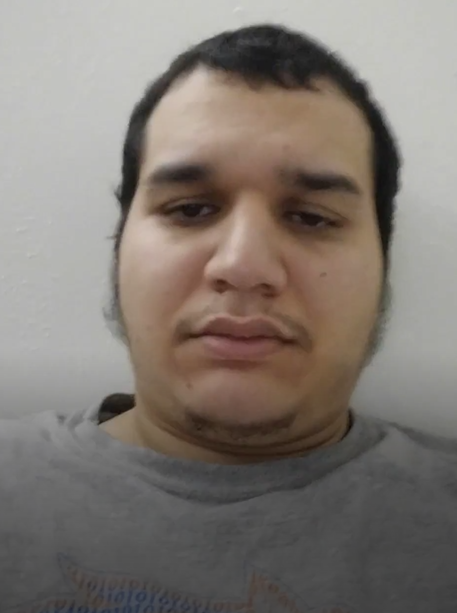Half Asleep: (134, 163, 370, 247)
